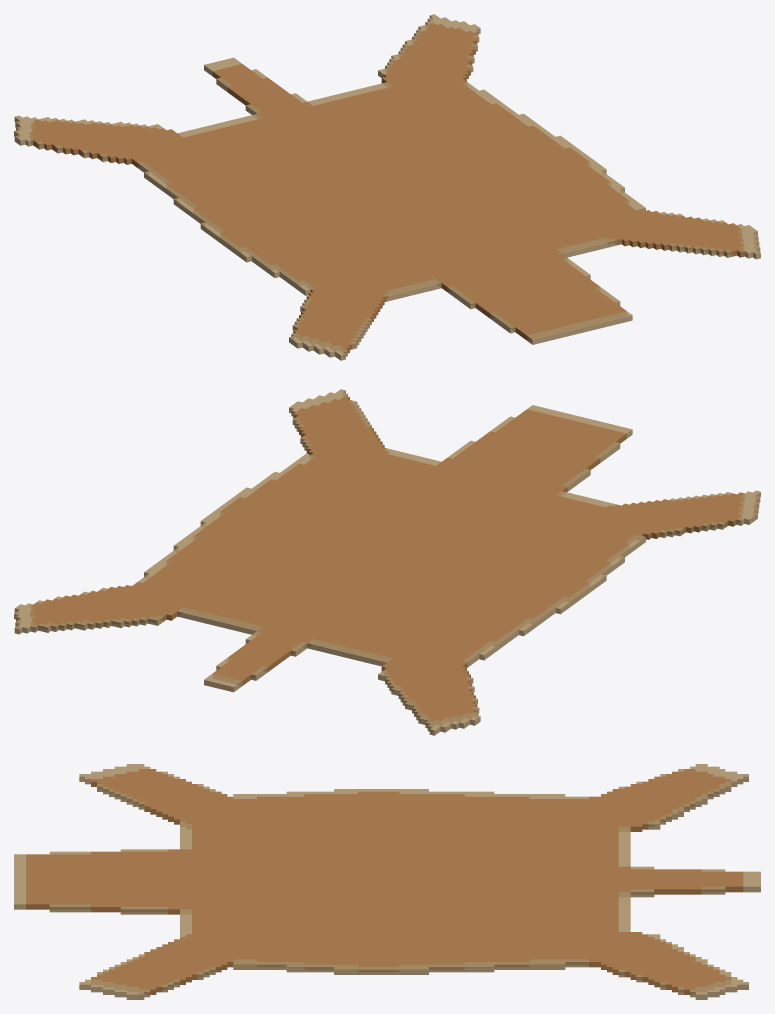
The model's file is tanned_hide.glb.
3 views of the same model, one above another, from view 1: azimuth 30°, elevation 25°; view 2: azimuth 150°, elevation 25°; view 3: azimuth 270°, elevation 25° (orthographic). The views are drawn at different scales.
Parts seen in each view (by area): view 1: tanned_hide:compound; view 2: tanned_hide:compound; view 3: tanned_hide:compound.
Boxes of the visible parts, x1,y1,x2,y2 form: tanned_hide:compound: [14, 14, 760, 360]; tanned_hide:compound: [14, 389, 760, 735]; tanned_hide:compound: [14, 764, 760, 999].
Size of the model in its own units: 0.368 by 0.004 by 0.504.
